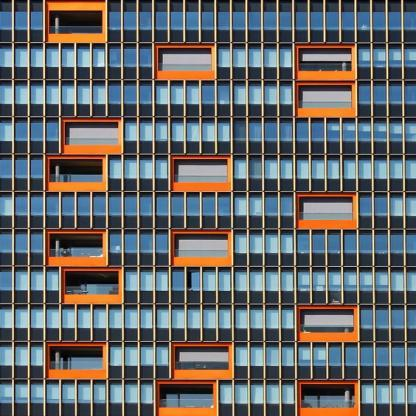Balcony: (302, 325, 355, 336), (49, 27, 102, 38), (175, 362, 228, 373), (160, 400, 213, 411), (302, 400, 355, 411), (50, 362, 103, 373), (65, 288, 118, 299), (50, 249, 103, 260), (300, 213, 353, 224), (50, 175, 103, 186), (66, 138, 119, 149), (299, 102, 352, 113), (299, 64, 352, 75), (175, 249, 227, 260), (175, 176, 227, 187), (159, 64, 211, 75)
Blind: (187, 310, 200, 328), (172, 122, 184, 141), (140, 122, 152, 141), (218, 122, 230, 141), (202, 122, 214, 141), (374, 160, 386, 179), (359, 160, 371, 179), (390, 160, 402, 179), (281, 160, 293, 179), (266, 160, 278, 179), (344, 160, 356, 179), (312, 160, 324, 179), (328, 160, 340, 179), (282, 385, 294, 404), (267, 385, 279, 404), (235, 385, 247, 404), (220, 385, 232, 404), (282, 347, 294, 366), (267, 347, 279, 366), (251, 347, 263, 366), (235, 347, 247, 366), (47, 49, 59, 67), (62, 49, 74, 67), (78, 49, 90, 67), (31, 49, 43, 67), (16, 49, 28, 67), (93, 49, 105, 67), (280, 49, 292, 67), (233, 49, 245, 67), (249, 49, 261, 67), (218, 49, 230, 67), (264, 49, 276, 67), (187, 86, 199, 104), (171, 86, 183, 104), (156, 86, 168, 104), (280, 86, 292, 104), (265, 86, 277, 104), (233, 86, 245, 104), (62, 86, 74, 104), (93, 86, 105, 104), (78, 86, 90, 104), (47, 86, 59, 104), (31, 86, 43, 104), (16, 86, 28, 104), (0, 123, 12, 141), (156, 160, 168, 178), (125, 160, 137, 178), (140, 160, 152, 178), (0, 198, 12, 216), (250, 198, 262, 216), (234, 198, 246, 216), (281, 235, 293, 253), (266, 235, 278, 253), (250, 235, 262, 253), (234, 235, 246, 253), (31, 272, 43, 290), (125, 272, 137, 290), (157, 272, 169, 290), (141, 272, 153, 290), (203, 272, 215, 290), (266, 272, 278, 290), (250, 272, 262, 290), (235, 272, 247, 290), (218, 272, 230, 290), (15, 272, 27, 290), (392, 272, 404, 290), (281, 272, 293, 290), (125, 310, 137, 328), (109, 310, 121, 328), (94, 310, 106, 328), (78, 310, 90, 328), (63, 310, 75, 328), (203, 310, 215, 328), (172, 310, 184, 328), (157, 310, 169, 328), (141, 310, 153, 328), (282, 310, 294, 328), (266, 310, 278, 328), (250, 310, 262, 328), (235, 310, 247, 328), (219, 310, 231, 328), (31, 310, 43, 328), (141, 385, 153, 403), (126, 348, 138, 366), (110, 348, 122, 366), (31, 348, 43, 366), (16, 348, 28, 366), (362, 385, 374, 403), (393, 385, 405, 403), (126, 385, 138, 403), (126, 122, 137, 141), (188, 122, 199, 141), (235, 160, 246, 179), (298, 160, 309, 179), (252, 385, 263, 404), (157, 122, 169, 139), (141, 347, 153, 364), (157, 347, 169, 364), (376, 385, 388, 402), (110, 385, 122, 402), (0, 49, 11, 67), (250, 86, 261, 104), (0, 86, 11, 104), (391, 198, 402, 216), (110, 160, 121, 178), (47, 272, 58, 290), (0, 310, 11, 328), (17, 310, 28, 328), (47, 310, 58, 328), (0, 348, 11, 366), (406, 198, 416, 216), (78, 385, 90, 400), (47, 385, 59, 399), (63, 385, 75, 399), (95, 385, 106, 400), (407, 272, 416, 290), (376, 272, 388, 285), (298, 272, 310, 285), (313, 272, 325, 285), (329, 272, 341, 285), (345, 272, 357, 285), (360, 272, 372, 285), (359, 49, 371, 61), (373, 49, 385, 61), (408, 385, 416, 403), (298, 348, 310, 360), (314, 348, 326, 360), (16, 385, 28, 397), (31, 386, 43, 398), (404, 49, 416, 60), (389, 49, 401, 60), (390, 123, 402, 134), (0, 385, 11, 397), (405, 122, 416, 133), (359, 123, 371, 132), (374, 123, 386, 132), (329, 123, 340, 131), (343, 123, 354, 131)
Building Outline: (0, 0, 416, 416)
Facade: (0, 0, 416, 416)
Floor Slab: (0, 413, 416, 416), (0, 40, 416, 43), (0, 77, 416, 80), (0, 114, 416, 117), (0, 151, 416, 154), (0, 189, 416, 192), (0, 226, 416, 229), (0, 263, 416, 266), (0, 301, 416, 304), (0, 339, 416, 342), (0, 376, 416, 379)
Window: (373, 49, 386, 67), (187, 310, 200, 328), (390, 122, 402, 141), (343, 122, 355, 141), (374, 160, 386, 179), (359, 160, 371, 179), (172, 122, 184, 141), (157, 122, 169, 141), (140, 122, 152, 141), (312, 122, 324, 141), (218, 122, 230, 141), (202, 122, 214, 141), (296, 122, 308, 141), (280, 122, 292, 141), (265, 122, 277, 141), (234, 122, 246, 141), (374, 122, 386, 141), (359, 122, 371, 141), (390, 160, 402, 179), (281, 160, 293, 179), (249, 160, 261, 179), (266, 160, 278, 179), (344, 160, 356, 179), (312, 160, 324, 179), (328, 160, 340, 179), (282, 385, 294, 404), (267, 385, 279, 404), (235, 385, 247, 404), (220, 385, 232, 404), (329, 347, 341, 366), (314, 347, 326, 366), (298, 347, 310, 366), (282, 347, 294, 366), (267, 347, 279, 366), (251, 347, 263, 366), (235, 347, 247, 366), (345, 347, 357, 366), (362, 385, 374, 404), (376, 385, 388, 404), (362, 310, 374, 329), (376, 310, 388, 329), (393, 385, 405, 404), (362, 347, 374, 366), (376, 347, 388, 366), (393, 347, 405, 366), (393, 310, 405, 329), (404, 12, 416, 30), (373, 12, 385, 30), (358, 12, 370, 30), (295, 12, 307, 30), (280, 12, 292, 30), (264, 12, 276, 30), (249, 12, 261, 30), (233, 12, 245, 30), (217, 12, 229, 30), (202, 12, 214, 30), (186, 12, 198, 30), (171, 12, 183, 30), (155, 12, 167, 30), (342, 12, 354, 30), (327, 12, 339, 30), (311, 12, 323, 30), (389, 12, 401, 30), (140, 12, 152, 30), (124, 12, 136, 30), (109, 12, 121, 30), (31, 12, 43, 30), (280, 49, 292, 67), (389, 49, 401, 67), (359, 49, 371, 67), (16, 12, 28, 30), (390, 86, 402, 104), (404, 49, 416, 67), (233, 49, 245, 67), (249, 49, 261, 67), (218, 49, 230, 67), (264, 49, 276, 67), (47, 49, 59, 67), (62, 49, 74, 67), (78, 49, 90, 67), (31, 49, 43, 67), (16, 49, 28, 67), (140, 49, 152, 67), (109, 49, 121, 67), (124, 49, 136, 67), (93, 49, 105, 67), (359, 86, 371, 104), (218, 86, 230, 104), (187, 86, 199, 104), (62, 86, 74, 104), (171, 86, 183, 104), (156, 86, 168, 104), (124, 86, 136, 104), (109, 86, 121, 104), (93, 86, 105, 104), (78, 86, 90, 104), (280, 86, 292, 104), (265, 86, 277, 104), (233, 86, 245, 104), (47, 86, 59, 104), (31, 86, 43, 104), (16, 86, 28, 104), (47, 123, 59, 141), (156, 160, 168, 178), (125, 160, 137, 178), (140, 160, 152, 178), (31, 160, 43, 178), (16, 160, 28, 178), (16, 198, 28, 216), (0, 198, 12, 216), (359, 198, 371, 216), (126, 385, 138, 403), (110, 385, 122, 403), (78, 385, 90, 403), (63, 385, 75, 403), (141, 385, 153, 403), (31, 123, 43, 141), (16, 123, 28, 141), (0, 123, 12, 141), (31, 198, 43, 216), (125, 198, 137, 216), (109, 198, 121, 216), (78, 198, 90, 216), (63, 198, 75, 216), (203, 198, 215, 216), (187, 198, 199, 216), (157, 198, 169, 216), (141, 198, 153, 216), (281, 198, 293, 216), (266, 198, 278, 216), (250, 198, 262, 216), (234, 198, 246, 216), (218, 198, 230, 216), (125, 235, 137, 253), (109, 235, 121, 253), (157, 235, 169, 253), (141, 235, 153, 253), (391, 235, 403, 253), (376, 235, 388, 253), (360, 235, 372, 253), (31, 272, 43, 290), (125, 272, 137, 290), (298, 272, 310, 290), (187, 272, 199, 290), (157, 272, 169, 290), (141, 272, 153, 290), (360, 272, 372, 290), (345, 272, 357, 290), (329, 272, 341, 290), (313, 272, 325, 290), (125, 310, 137, 328), (109, 310, 121, 328), (94, 310, 106, 328), (78, 310, 90, 328), (63, 310, 75, 328), (203, 310, 215, 328), (172, 310, 184, 328), (157, 310, 169, 328), (141, 310, 153, 328), (282, 310, 294, 328), (266, 310, 278, 328), (250, 310, 262, 328), (235, 310, 247, 328), (219, 310, 231, 328), (126, 348, 138, 366), (110, 348, 122, 366), (157, 348, 169, 366), (141, 348, 153, 366), (31, 385, 43, 403), (16, 385, 28, 403), (31, 348, 43, 366), (16, 348, 28, 366), (31, 310, 43, 328), (203, 272, 215, 290), (281, 272, 293, 290), (266, 272, 278, 290), (250, 272, 262, 290), (235, 272, 247, 290), (218, 272, 230, 290), (376, 272, 388, 290), (392, 272, 404, 290), (281, 235, 293, 253), (266, 235, 278, 253), (250, 235, 262, 253), (234, 235, 246, 253), (345, 235, 357, 253), (328, 235, 340, 253), (313, 235, 325, 253), (297, 235, 309, 253), (31, 235, 43, 253), (15, 272, 27, 290), (15, 235, 27, 253), (375, 198, 387, 216), (329, 122, 340, 141), (126, 122, 137, 141), (188, 122, 199, 141), (250, 122, 261, 141), (235, 160, 246, 179), (298, 160, 309, 179), (252, 385, 263, 404), (0, 12, 11, 30), (405, 86, 416, 104), (375, 86, 386, 104), (0, 49, 11, 67), (203, 86, 214, 104), (405, 122, 416, 140), (140, 86, 151, 104), (250, 86, 261, 104), (0, 86, 11, 104), (405, 160, 416, 178), (391, 198, 402, 216), (110, 160, 121, 178), (0, 160, 11, 178), (0, 385, 11, 403), (47, 385, 58, 403), (95, 385, 106, 403), (47, 198, 58, 216), (95, 198, 106, 216), (172, 198, 183, 216), (0, 272, 11, 290), (47, 272, 58, 290), (173, 272, 184, 290), (0, 310, 11, 328), (17, 310, 28, 328), (0, 348, 11, 366), (47, 310, 58, 328), (0, 235, 11, 253), (406, 198, 416, 216), (406, 235, 416, 253), (407, 310, 416, 329), (407, 272, 416, 290), (408, 385, 416, 404), (408, 347, 416, 365)
